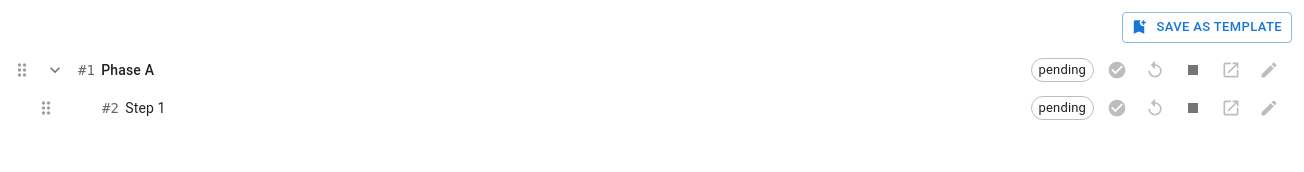
Test: TaskTreeView › collapses and expands parent rows
The image size is (1304, 172).
Check: the text "Step 1" is shown, box [125,100,166,116]
Click the button named "collapse phase a" at (55, 70), box [40,55,70,85]
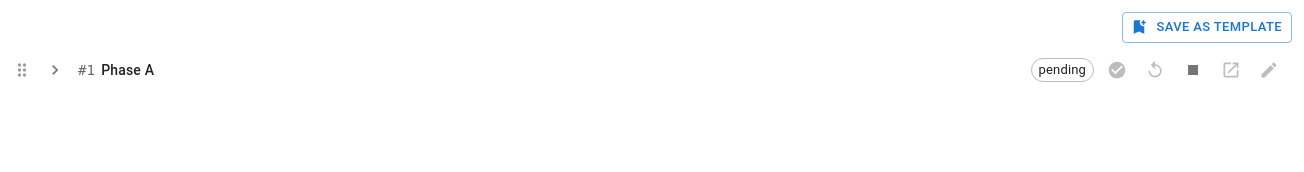
Check: the text "Step 1" is gone
Click the button named "expand phase a" at (55, 70), box [40,55,70,85]
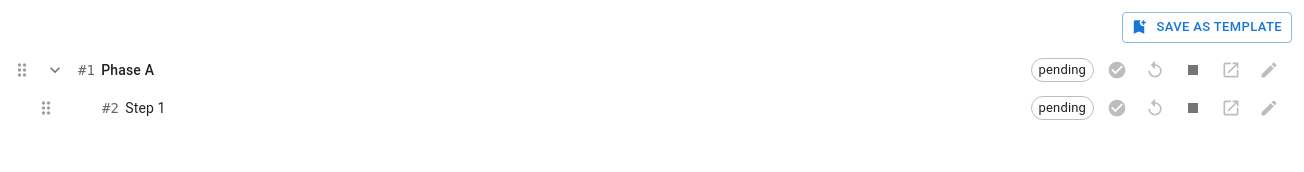
Check: the text "Step 1" is shown, box [125,100,166,116]
